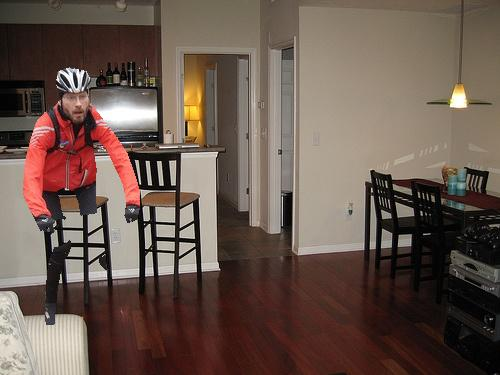tampered: (24, 68, 140, 325)
